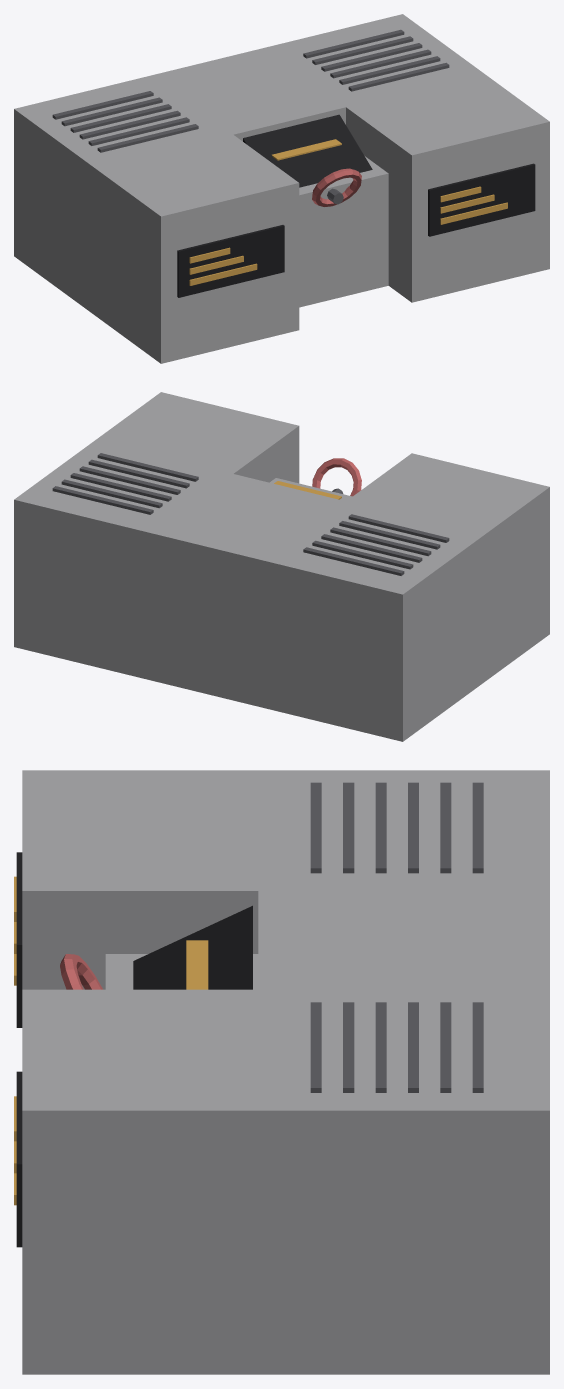
The model's file is vge_pilot_console.obj.
The picture shows the model from 3 angles, top to bottom: view 1: azimuth 30°, elevation 25°; view 2: azimuth 150°, elevation 25°; view 3: azimuth 270°, elevation 25°; orthographic projection. The views are drawn at different scales.
Parts seen in each view (by area): view 1: vge_pilot_console_0, vge_pilot_console_11, vge_pilot_console_22, vge_pilot_console_23, vge_pilot_console_24, vge_pilot_console_18, vge_pilot_console_7, vge_pilot_console_27, vge_pilot_console_4, vge_pilot_console_14, vge_pilot_console_15, vge_pilot_console_17 (+11 smaller); view 2: vge_pilot_console_0, vge_pilot_console_11, vge_pilot_console_22, vge_pilot_console_23, vge_pilot_console_27, vge_pilot_console_1, vge_pilot_console_5, vge_pilot_console_12, vge_pilot_console_16, vge_pilot_console_3, vge_pilot_console_4, vge_pilot_console_6 (+5 smaller); view 3: vge_pilot_console_11, vge_pilot_console_0, vge_pilot_console_23, vge_pilot_console_24, vge_pilot_console_22, vge_pilot_console_18, vge_pilot_console_7, vge_pilot_console_25, vge_pilot_console_1, vge_pilot_console_2, vge_pilot_console_3, vge_pilot_console_5 (+9 smaller).
Boxes of the visible parts, x1,y1,x2,y2 form: vge_pilot_console_0: [14, 75, 299, 363]; vge_pilot_console_11: [265, 14, 549, 302]; vge_pilot_console_22: [299, 156, 388, 307]; vge_pilot_console_23: [152, 47, 345, 141]; vge_pilot_console_24: [243, 114, 372, 187]; vge_pilot_console_18: [428, 163, 535, 236]; vge_pilot_console_7: [177, 225, 284, 297]; vge_pilot_console_27: [312, 168, 361, 206]; vge_pilot_console_4: [70, 104, 171, 132]; vge_pilot_console_14: [330, 49, 431, 78]; vge_pilot_console_15: [321, 43, 422, 71]; vge_pilot_console_17: [303, 29, 404, 58]; vge_pilot_console_0: [264, 453, 549, 741]; vge_pilot_console_11: [14, 392, 299, 680]; vge_pilot_console_22: [152, 478, 352, 707]; vge_pilot_console_23: [152, 474, 345, 595]; vge_pilot_console_27: [312, 458, 361, 496]; vge_pilot_console_1: [348, 514, 449, 542]; vge_pilot_console_5: [312, 540, 413, 569]; vge_pilot_console_12: [97, 453, 198, 481]; vge_pilot_console_16: [61, 479, 162, 508]; vge_pilot_console_3: [330, 527, 431, 556]; vge_pilot_console_4: [321, 534, 422, 562]; vge_pilot_console_6: [303, 547, 404, 575]; vge_pilot_console_11: [22, 989, 549, 1374]; vge_pilot_console_0: [22, 770, 549, 989]; vge_pilot_console_23: [258, 891, 549, 989]; vge_pilot_console_24: [133, 905, 252, 989]; vge_pilot_console_22: [105, 954, 258, 989]; vge_pilot_console_18: [16, 1071, 22, 1247]; vge_pilot_console_7: [16, 852, 22, 1027]; vge_pilot_console_25: [186, 940, 208, 989]; vge_pilot_console_1: [310, 782, 321, 873]; vge_pilot_console_2: [343, 782, 354, 873]; vge_pilot_console_3: [375, 782, 386, 873]; vge_pilot_console_5: [440, 782, 451, 873].
Size of the model in its own units: 2.9 by 1.07 by 1.93.
